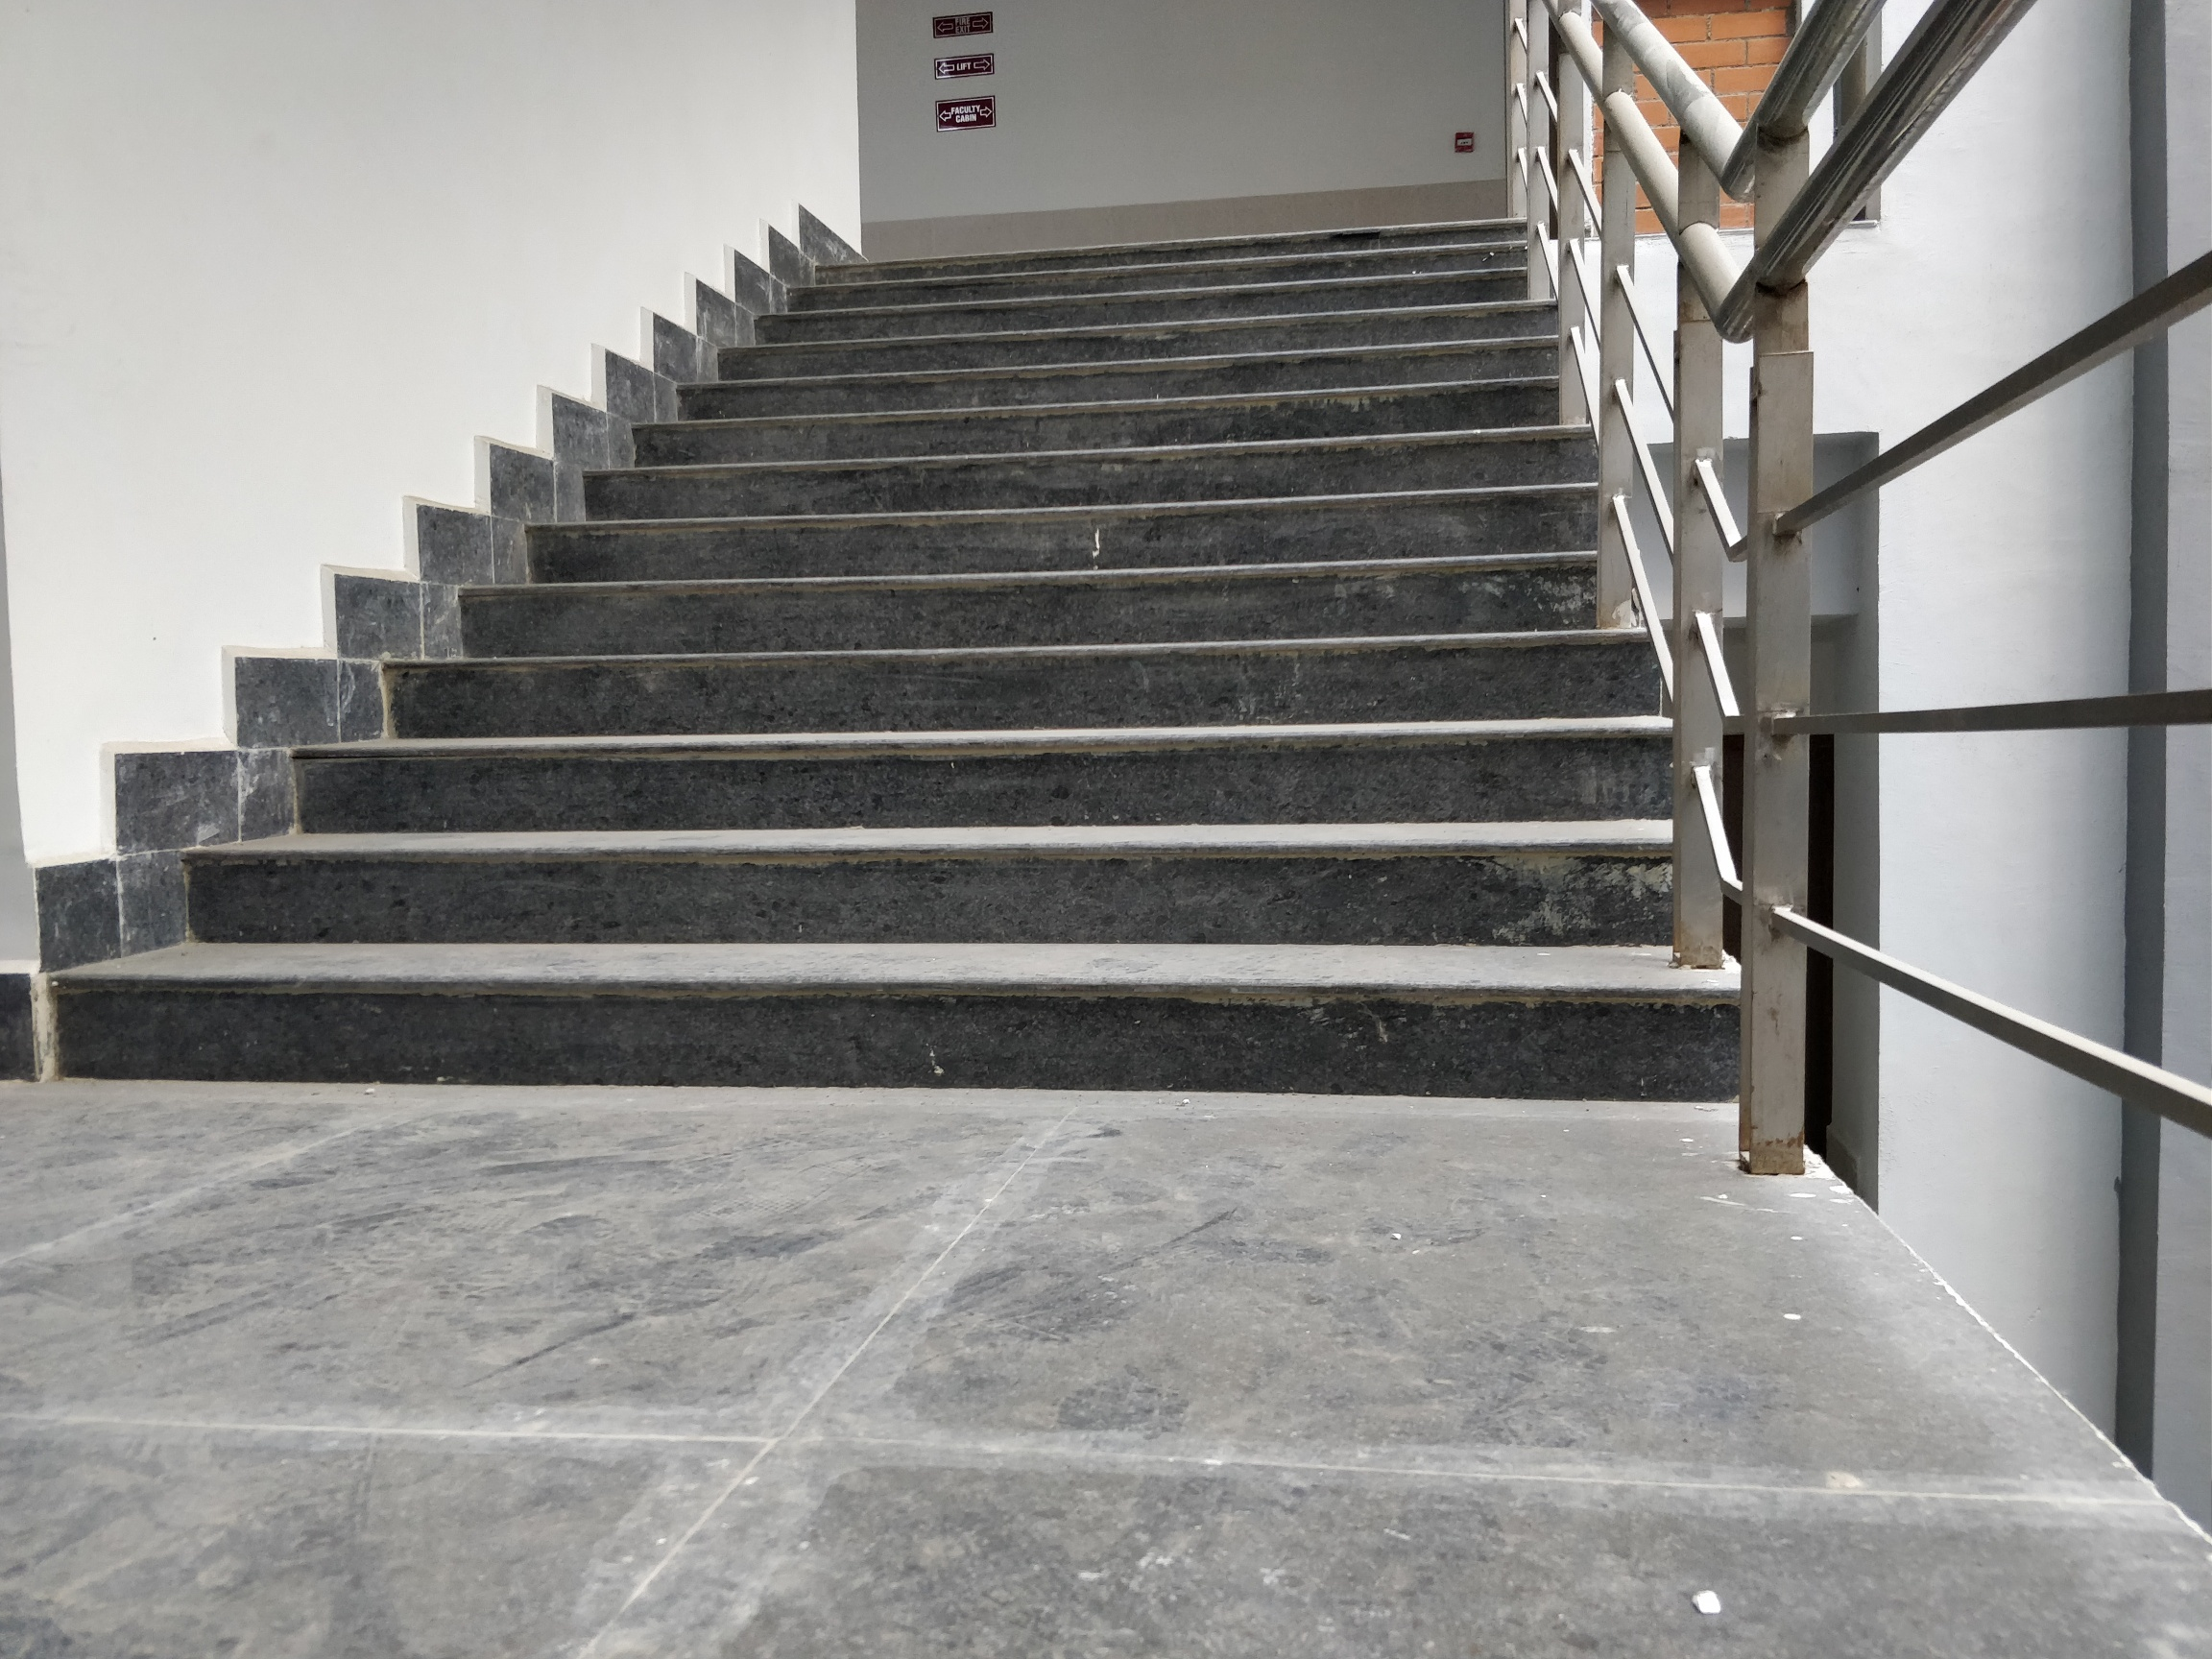stairs_up: (223, 303, 1702, 1105)
